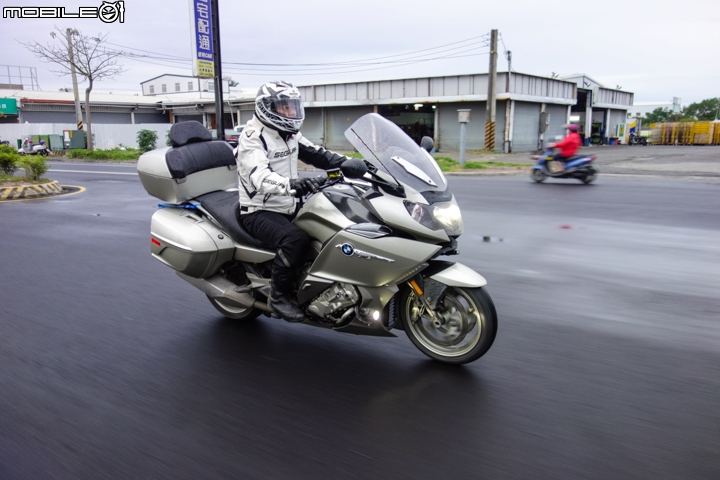helmet: (251, 79, 312, 132)
